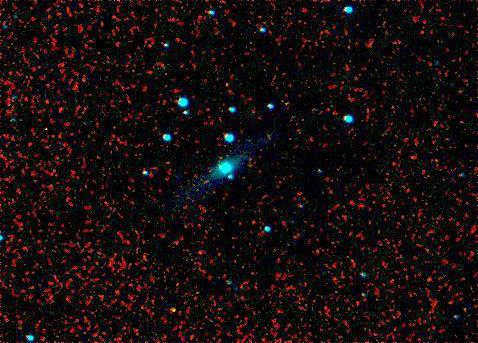star: (157, 295, 187, 325)
